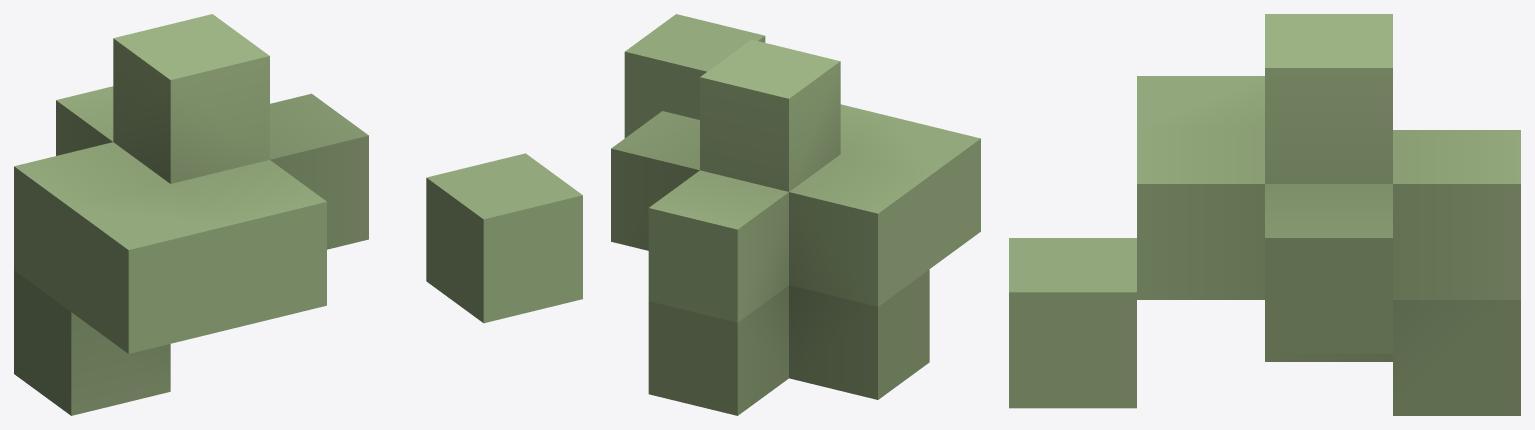
The model's file is buisson_petit_1.glb.
3 renders of one model, left to right at view 1: azimuth 30°, elevation 25°; view 2: azimuth 150°, elevation 25°; view 3: azimuth 270°, elevation 25°, orthographic. The views are drawn at different scales.
Parts seen in each view (by area): view 1: geometry_0; view 2: geometry_0; view 3: geometry_0.
Boxes of the visible parts, <box> form: geometry_0: <box>14,14,582,415</box>; geometry_0: <box>611,14,980,415</box>; geometry_0: <box>1009,14,1520,415</box>.
Size of the model in its own units: 1 by 0.75 by 1.
